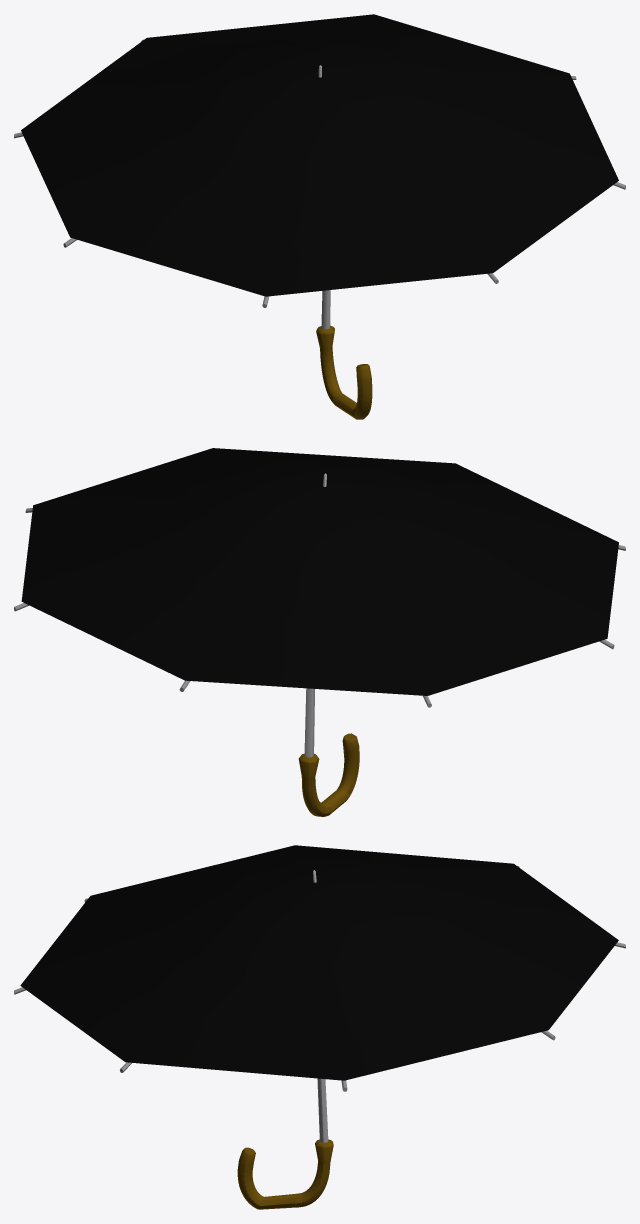
The model's file is UmbrellaOpen.obj.
3 views of the same model, one above another, from view 1: azimuth 30°, elevation 25°; view 2: azimuth 150°, elevation 25°; view 3: azimuth 270°, elevation 25° (orthographic). The views are drawn at different scales.
Parts seen in each view (by area): view 1: UmbrellaOpened; view 2: UmbrellaOpened; view 3: UmbrellaOpened.
Part boxes in pixels (x1,y1,x2,y2): UmbrellaOpened: [14, 14, 625, 419]; UmbrellaOpened: [14, 448, 625, 816]; UmbrellaOpened: [14, 845, 625, 1209].
Bounding box in the file's own units: 0.3341 × 0.2008 × 0.334.
1 material, 1 textured.
